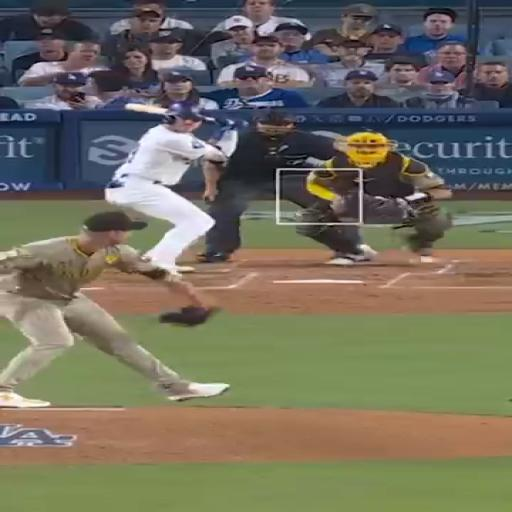bat: (126, 104, 167, 115)
